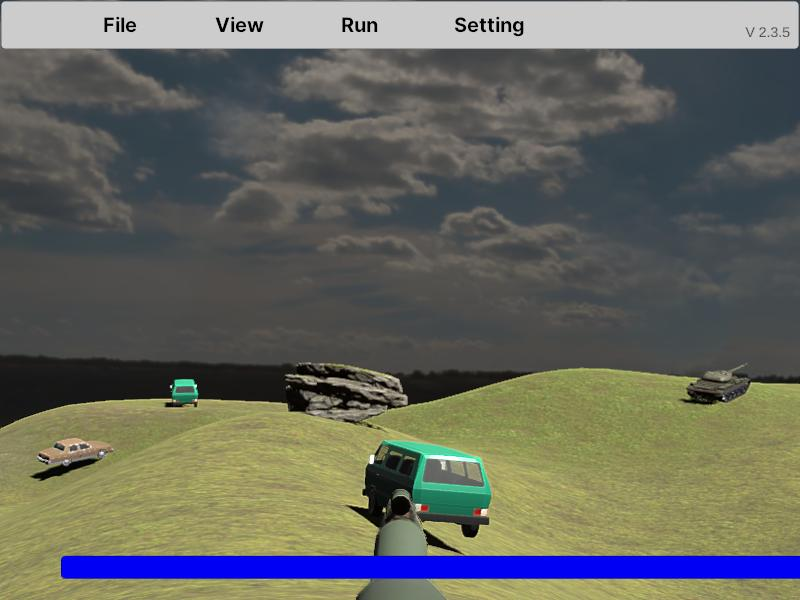Tank: (686, 363, 751, 405)
car: (363, 440, 492, 540), (37, 437, 113, 468)
